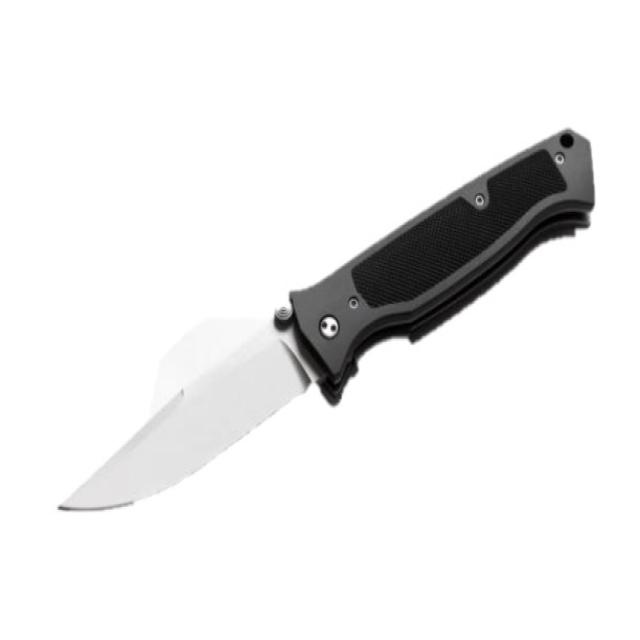knife: (38, 124, 602, 528)
